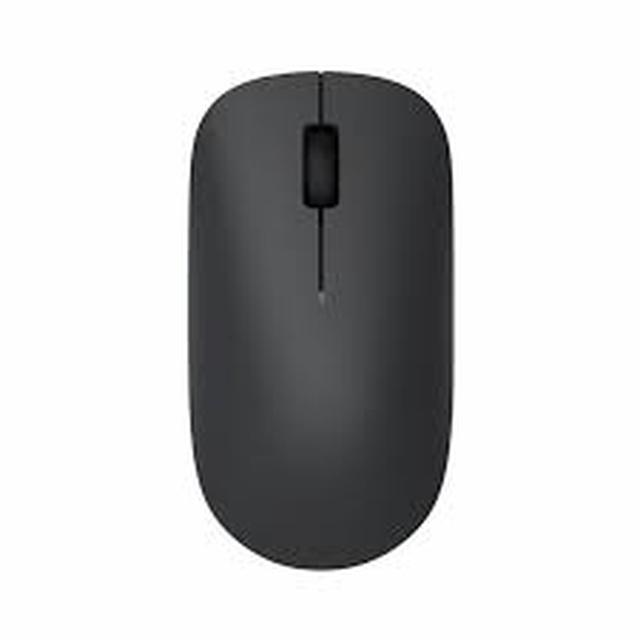mouse: (174, 48, 461, 577)
